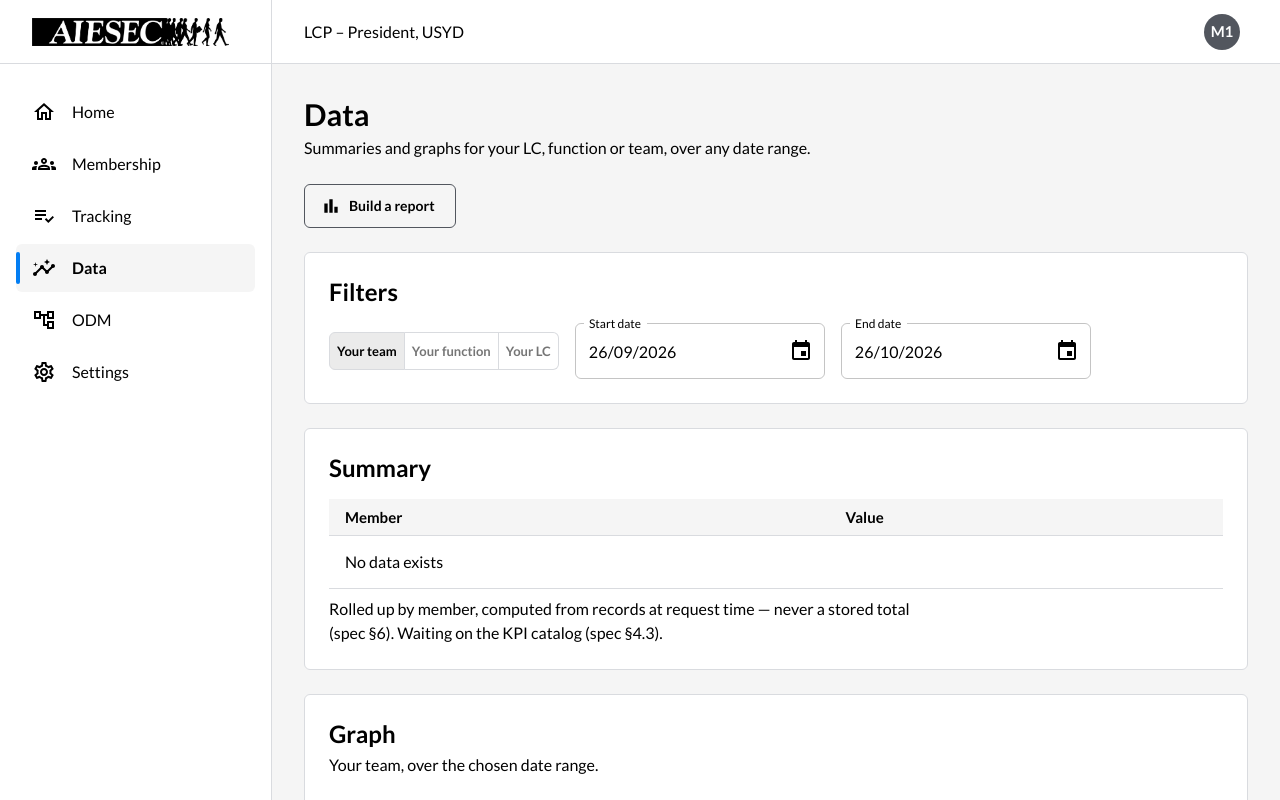
placeholder pages and the profile › shows the Data scaffold, with a Filters section and no Build a report dialog until asked
The width and height of the screenshot is (1280, 800).
Expected: the heading "Data" is shown, [304,96,370,132]
Expected: the heading "Filters" is shown, [329,277,398,306]
Click the button "Build a report": (380, 206) [304,184,456,228]
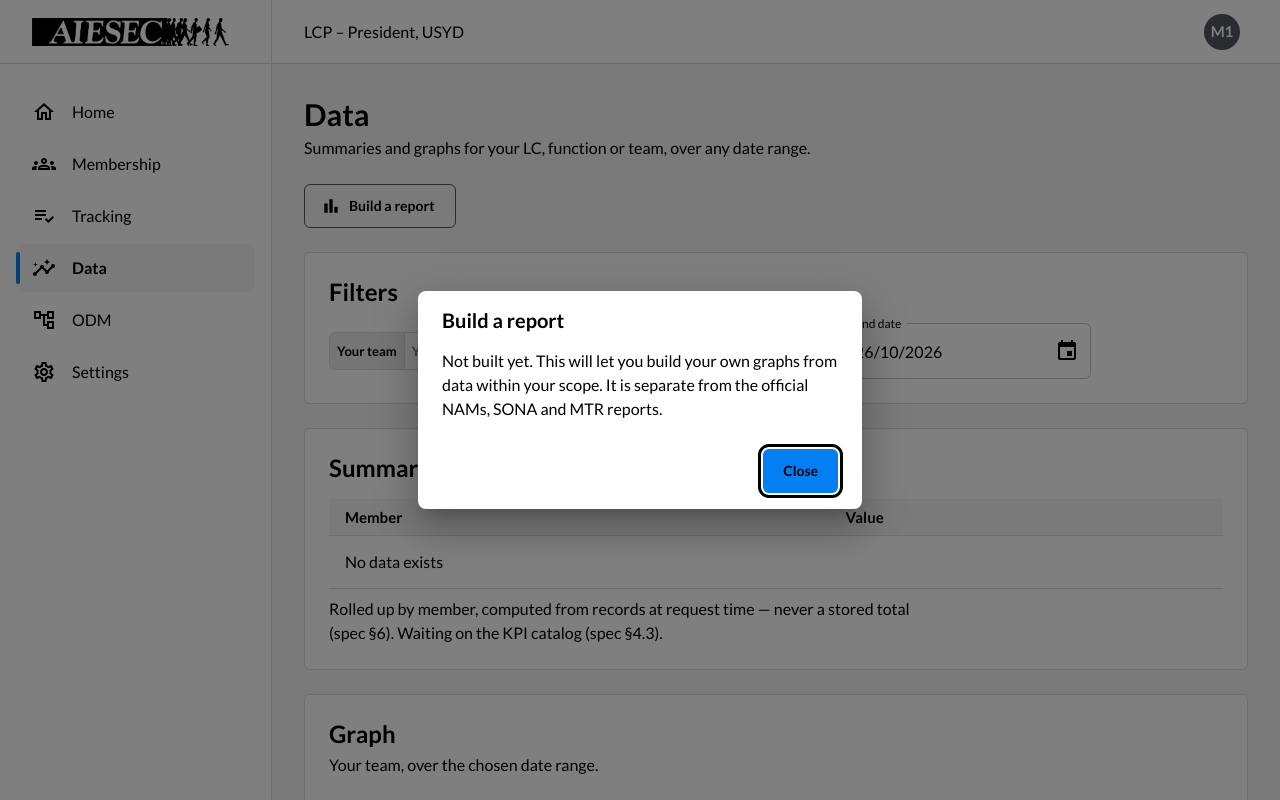
Expected: the heading "Build a report" is shown, [442,308,564,332]
